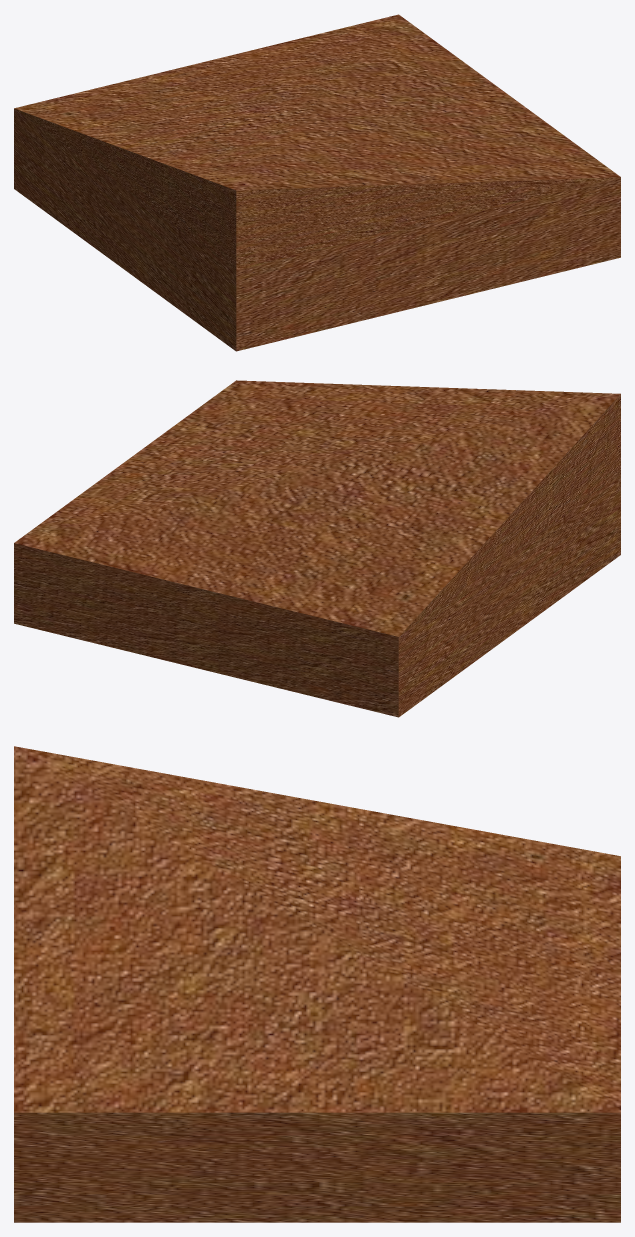
Rendered from Map0001.fbx.
3 views of the same model, one above another, from view 1: azimuth 30°, elevation 25°; view 2: azimuth 150°, elevation 25°; view 3: azimuth 270°, elevation 25° (orthographic). The views are drawn at different scales.
Visible parts, largest first — view 1: Map0001, Map0000; view 2: Map0001, Map0000; view 3: Map0001, Map0000.
Boxes of the visible parts, x1,y1,x2,y2 form: Map0001: [14, 14, 620, 270]; Map0000: [14, 108, 620, 351]; Map0001: [14, 380, 620, 636]; Map0000: [14, 474, 620, 717]; Map0001: [14, 746, 620, 1112]; Map0000: [14, 1112, 620, 1222].
Size of the model in its own units: 200 by 80 by 200.
2 materials, 2 textured.
